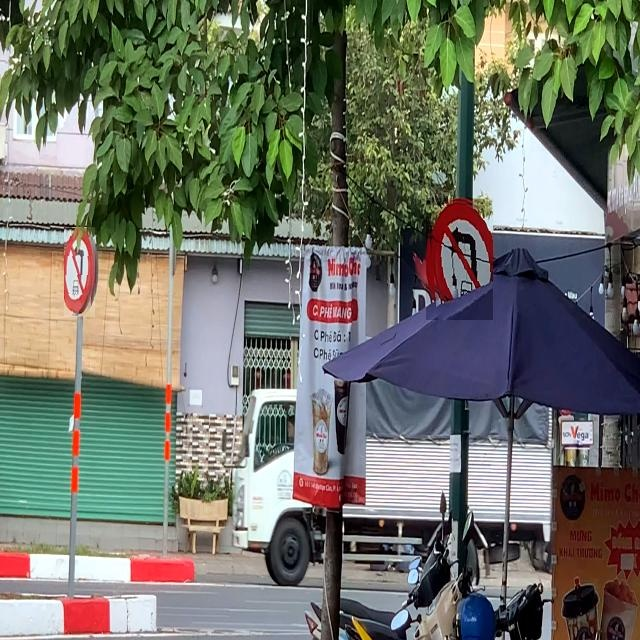bien_cam: (426, 198, 493, 320), (64, 228, 95, 318)
